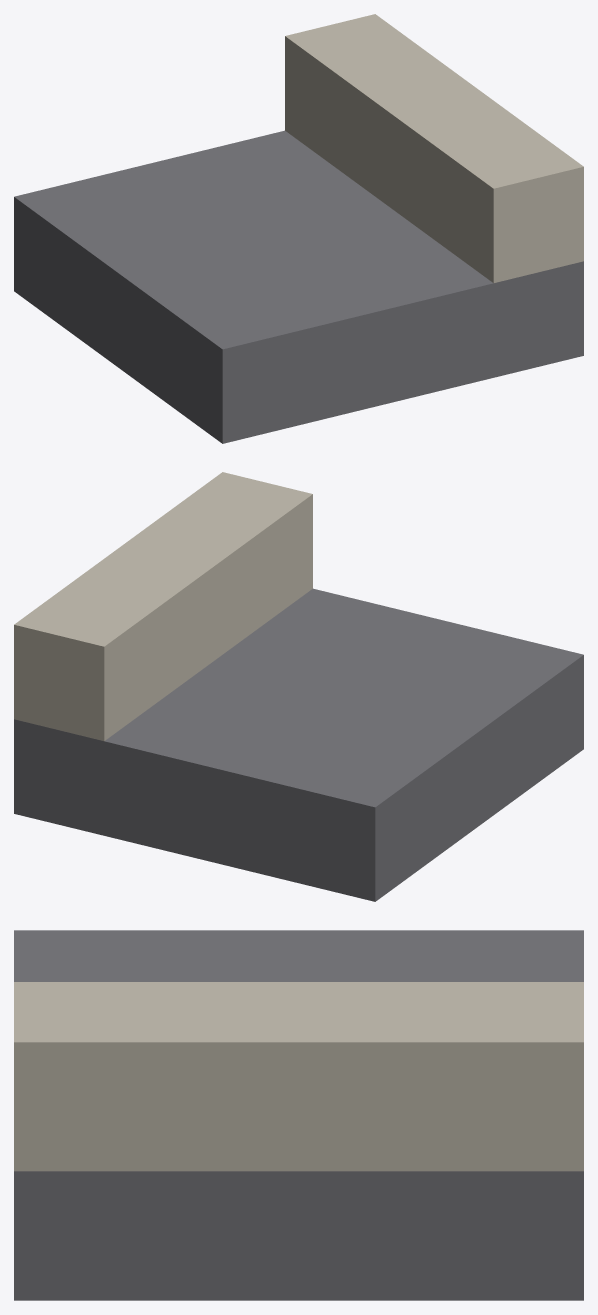
The model's file is roof_flat_edge.glb.
3 renders of one model, top to bottom at view 1: azimuth 30°, elevation 25°; view 2: azimuth 150°, elevation 25°; view 3: azimuth 270°, elevation 25°, orthographic. The views are drawn at different scales.
Parts seen in each view (by area): view 1: roof_flat_edge; view 2: roof_flat_edge; view 3: roof_flat_edge.
Boxes of the visible parts, x1,y1,x2,y2 form: roof_flat_edge: [14, 14, 583, 443]; roof_flat_edge: [14, 472, 583, 901]; roof_flat_edge: [14, 930, 583, 1300].
Size of the model in its own units: 1 by 0.5 by 1.
1 material, 1 textured.
